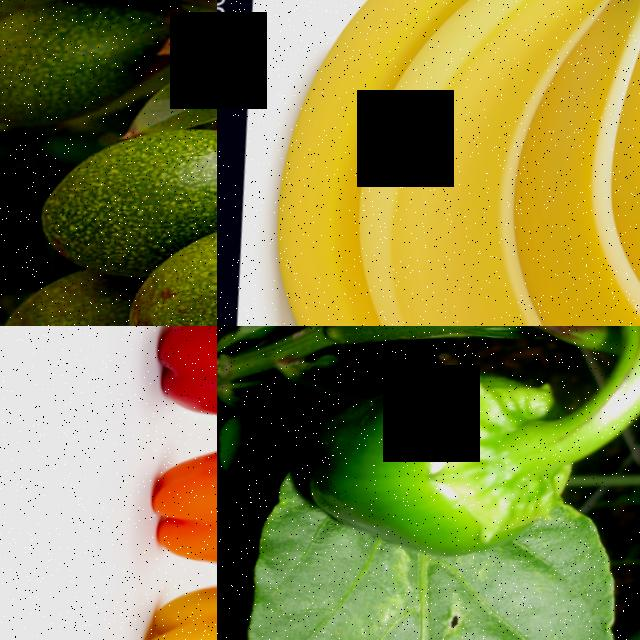avocado: (30, 110, 217, 277), (0, 0, 187, 135), (127, 200, 217, 326), (0, 264, 178, 326)
banana: (217, 0, 640, 326)
bell pepper: (274, 384, 586, 583)
